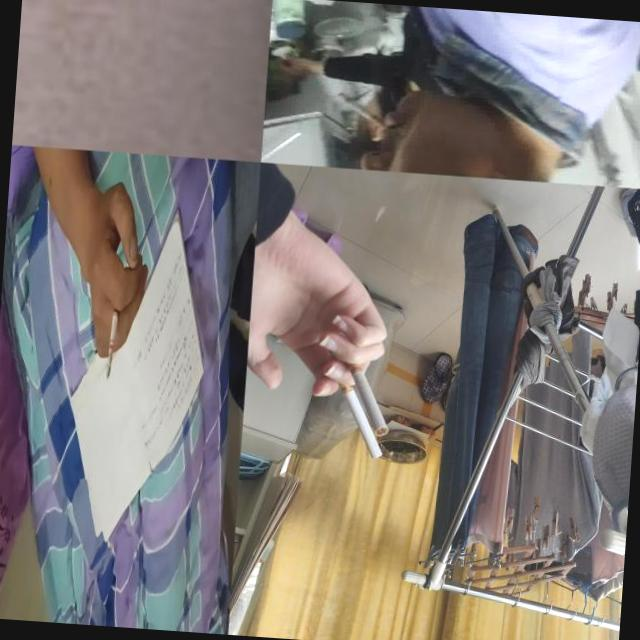smoke: (327, 364, 388, 460), (336, 348, 394, 437), (336, 92, 392, 133), (105, 288, 122, 382)
